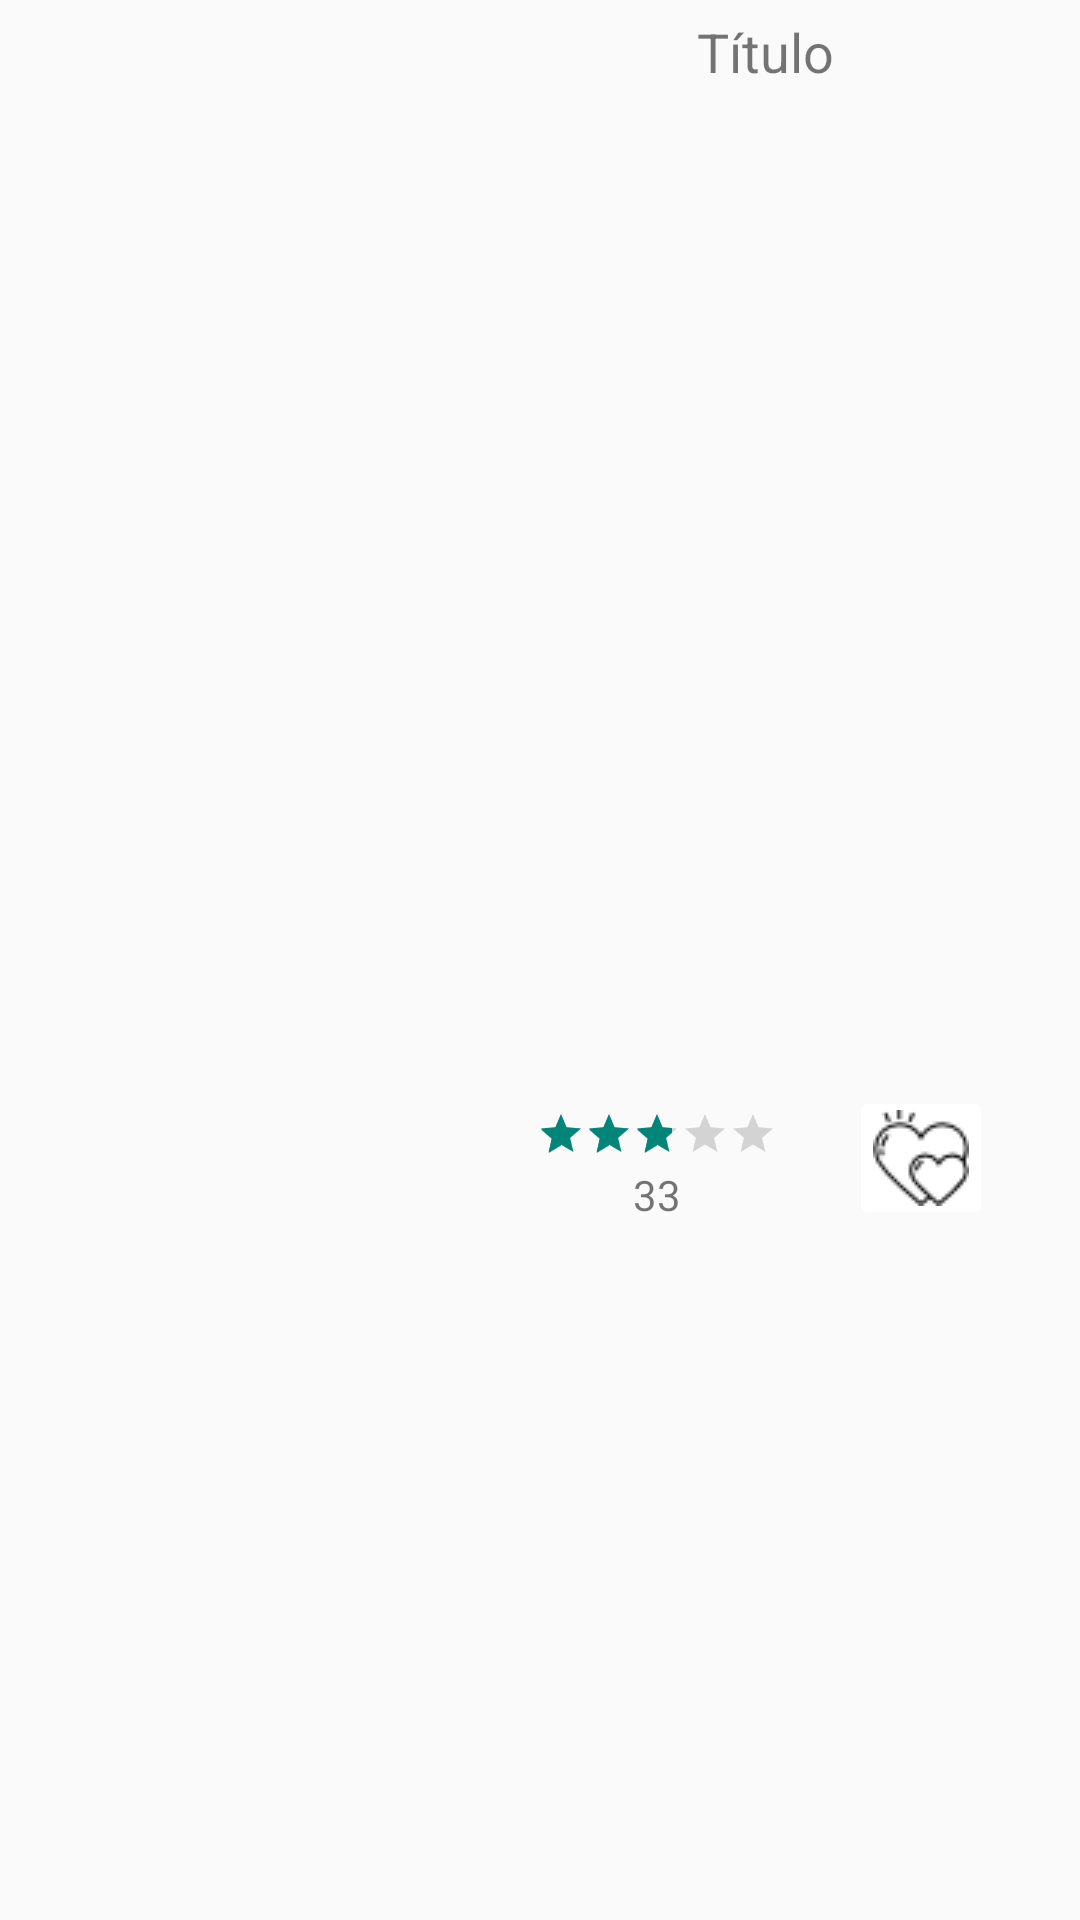

Screen size 1080×1920. Icon name, then its center in pixels as (x=x, y=y):
corazonfalse: (x=921, y=1158)
